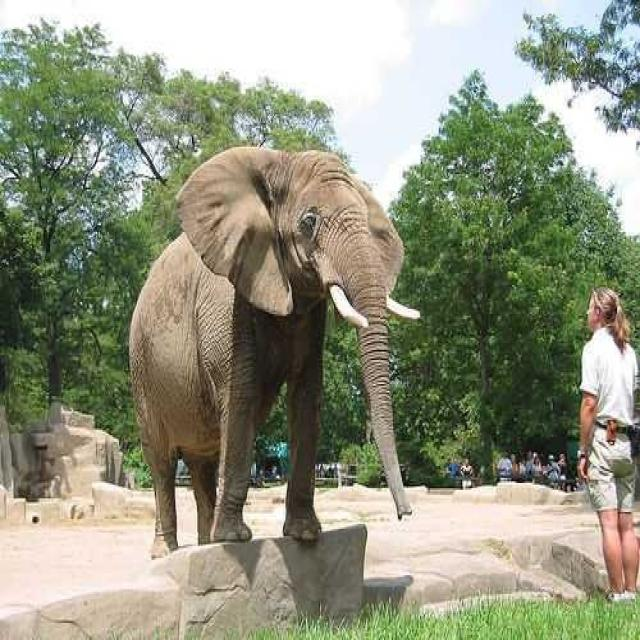Elephant: (128, 143, 420, 558)
person: (576, 285, 639, 602)
